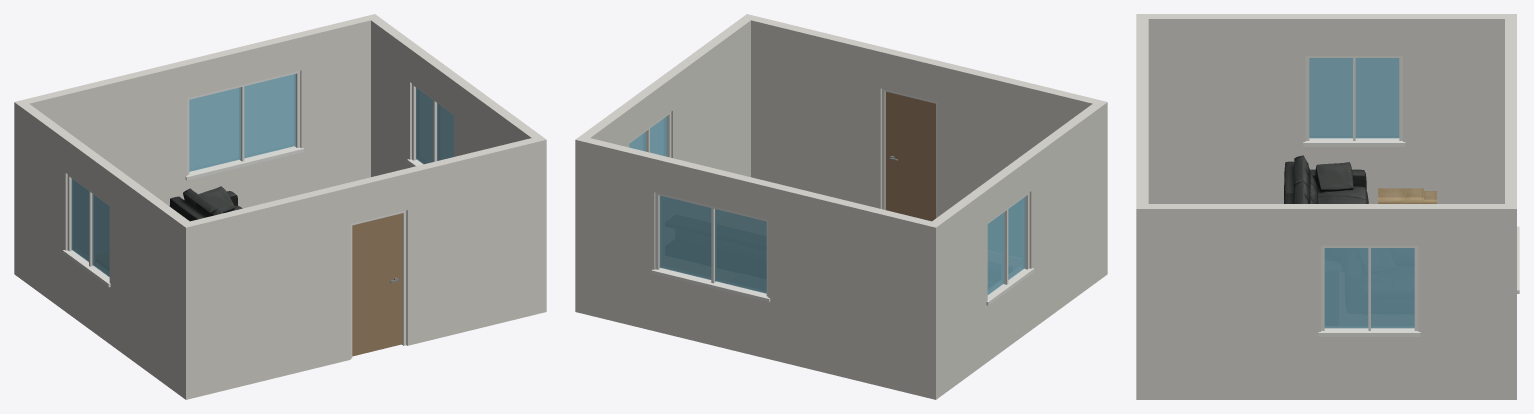
File: layoutvlm.glb
3 views of the same model, side by side, from view 1: azimuth 30°, elevation 25°; view 2: azimuth 150°, elevation 25°; view 3: azimuth 270°, elevation 25° (orthographic). The views are drawn at different scales.
Visible parts, largest first — view 1: wall|scenesmith_010__R00|0, wall|scenesmith_010__R00|1, wall|scenesmith_010__R00|2, wall|scenesmith_010__R00|3, wall|scenesmith_010__R00|1 Window 0 | glazing, wall|scenesmith_010__R00|0 Door 0 | wood leaf, wall|scenesmith_010__R00|2 Window 0 | glazing, wall|scenesmith_010__R00|1 Window 0 | jamb, wall|scenesmith_010__R00|3 Window 0 | glazing, raw_model.001, wall|scenesmith_010__R00|2 Window 0 | jamb, wall|scenesmith_010__R00|0 Door 0 | jamb (+1 smaller); view 2: wall|scenesmith_010__R00|1, wall|scenesmith_010__R00|0, wall|scenesmith_010__R00|2, wall|scenesmith_010__R00|3, wall|scenesmith_010__R00|1 Window 0 | glazing, wall|scenesmith_010__R00|0 Door 0 | wood leaf, wall|scenesmith_010__R00|2 Window 0 | glazing, wall|scenesmith_010__R00|1 Window 0 | jamb, wall|scenesmith_010__R00|2 Window 0 | jamb, wall|scenesmith_010__R00|0 Door 0 | jamb, wall|scenesmith_010__R00|3 Window 0 | glazing; view 3: wall|scenesmith_010__R00|3, wall|scenesmith_010__R00|2, wall|scenesmith_010__R00|2 Window 0 | glazing, wall|scenesmith_010__R00|3 Window 0 | glazing, wall|scenesmith_010__R00|0, wall|scenesmith_010__R00|1, raw_model.001, wall|scenesmith_010__R00|3 Window 0 | jamb, wall|scenesmith_010__R00|2 Window 0 | jamb, raw_model.004.
Boxes of the visible parts, x1,y1,x2,y2 form: wall|scenesmith_010__R00|0: [180, 136, 546, 399]; wall|scenesmith_010__R00|1: [14, 14, 379, 277]; wall|scenesmith_010__R00|2: [18, 100, 195, 399]; wall|scenesmith_010__R00|3: [368, 14, 546, 313]; wall|scenesmith_010__R00|1 Window 0 | glazing: [189, 74, 295, 171]; wall|scenesmith_010__R00|0 Door 0 | wood leaf: [352, 213, 402, 356]; wall|scenesmith_010__R00|2 Window 0 | glazing: [71, 178, 109, 276]; wall|scenesmith_010__R00|1 Window 0 | jamb: [185, 71, 304, 180]; wall|scenesmith_010__R00|3 Window 0 | glazing: [416, 88, 453, 164]; raw_model.001: [169, 186, 242, 221]; wall|scenesmith_010__R00|2 Window 0 | jamb: [62, 174, 110, 287]; wall|scenesmith_010__R00|0 Door 0 | jamb: [350, 210, 406, 358]; wall|scenesmith_010__R00|1: [584, 138, 941, 399]; wall|scenesmith_010__R00|0: [742, 14, 1107, 277]; wall|scenesmith_010__R00|2: [926, 104, 1102, 399]; wall|scenesmith_010__R00|3: [575, 18, 750, 313]; wall|scenesmith_010__R00|1 Window 0 | glazing: [659, 195, 766, 293]; wall|scenesmith_010__R00|0 Door 0 | wood leaf: [885, 91, 935, 221]; wall|scenesmith_010__R00|2 Window 0 | glazing: [987, 196, 1025, 294]; wall|scenesmith_010__R00|1 Window 0 | jamb: [651, 192, 770, 301]; wall|scenesmith_010__R00|2 Window 0 | jamb: [986, 192, 1034, 305]; wall|scenesmith_010__R00|0 Door 0 | jamb: [882, 89, 937, 217]; wall|scenesmith_010__R00|3 Window 0 | glazing: [629, 116, 667, 156]; wall|scenesmith_010__R00|3: [1148, 204, 1516, 399]; wall|scenesmith_010__R00|2: [1148, 14, 1516, 203]; wall|scenesmith_010__R00|2 Window 0 | glazing: [1309, 58, 1399, 138]; wall|scenesmith_010__R00|3 Window 0 | glazing: [1324, 248, 1414, 328]; wall|scenesmith_010__R00|0: [1136, 14, 1148, 399]; wall|scenesmith_010__R00|1: [1505, 14, 1516, 399]; raw_model.001: [1284, 155, 1368, 203]; wall|scenesmith_010__R00|3 Window 0 | jamb: [1318, 245, 1420, 336]; wall|scenesmith_010__R00|2 Window 0 | jamb: [1303, 56, 1405, 146]; raw_model.004: [1378, 188, 1436, 203].
Size of the model in its own units: 5.76 by 2.61 by 4.73.
12 materials, 5 textured.
